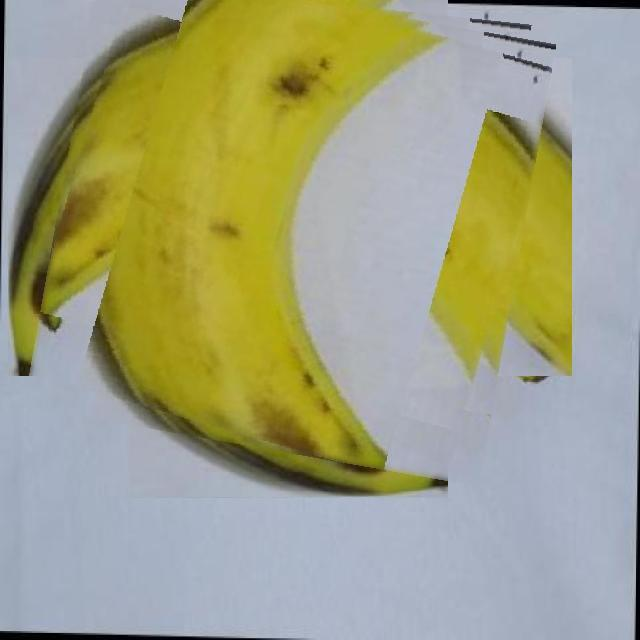Madura: (41, 0, 538, 467)
